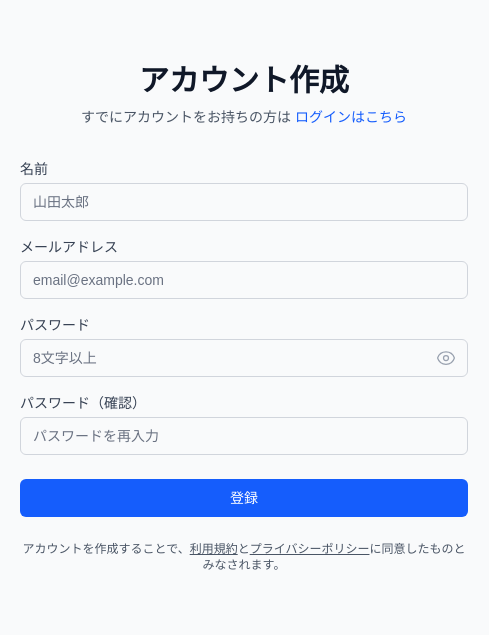
Test: RegisterPage › should show validation errors for empty fields
Click the button "登録" at (244, 498), box [20,479,468,517]
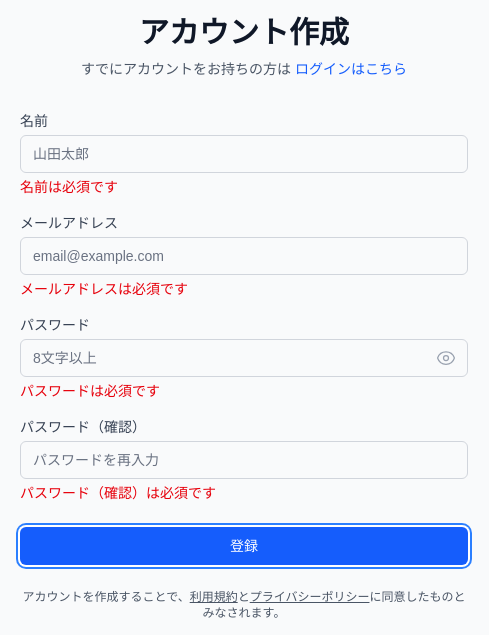
Check: the text "名前は必須です" is shown, box [20,179,118,195]
Check: the text "メールアドレスは必須です" is shown, box [20,281,188,297]
Check: the text "パスワードは必須です" is shown, box [20,383,160,399]
